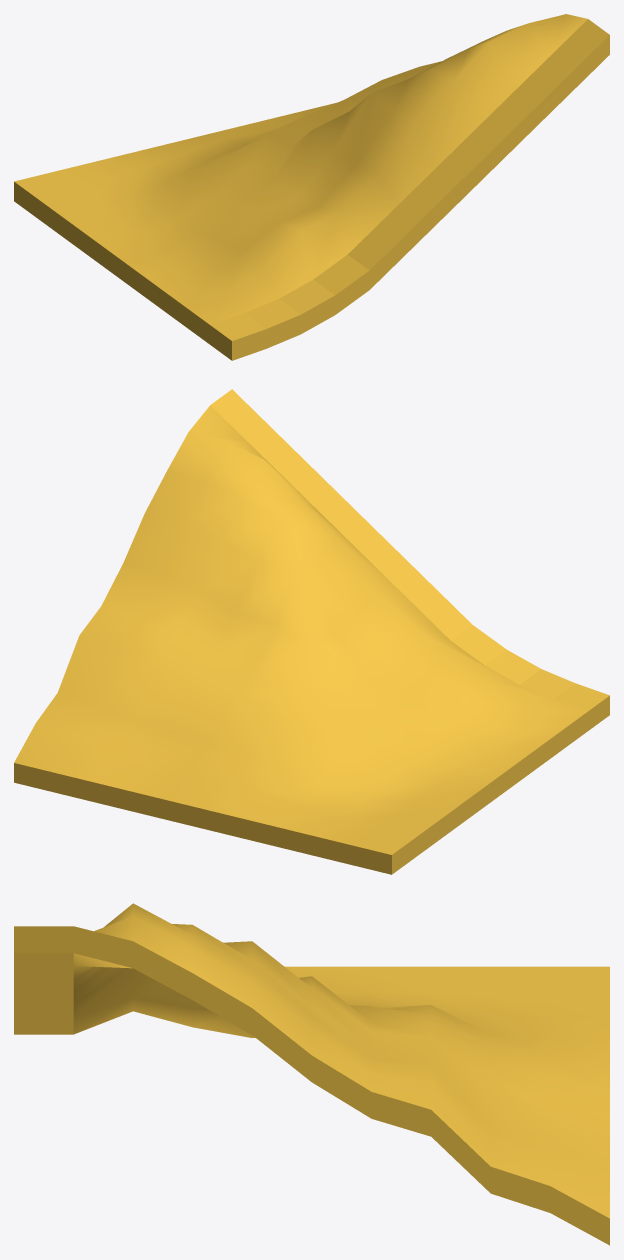
Rendered from Steil - Unten - Ecke b - x.fbx.
3 renders of one model, top to bottom at view 1: azimuth 30°, elevation 25°; view 2: azimuth 150°, elevation 25°; view 3: azimuth 270°, elevation 25°, orthographic. The views are drawn at different scales.
Visible parts, largest first — view 1: Steil - Unten - Ecke b - x; view 2: Steil - Unten - Ecke b - x; view 3: Steil - Unten - Ecke b - x.
Part boxes in pixels (x1=…): Steil - Unten - Ecke b - x: x1=14, y1=14, x2=609, y2=360; Steil - Unten - Ecke b - x: x1=14, y1=389, x2=609, y2=874; Steil - Unten - Ecke b - x: x1=14, y1=903, x2=609, y2=1245.
Bounding box in the file's own units: 394 × 233 × 394.
